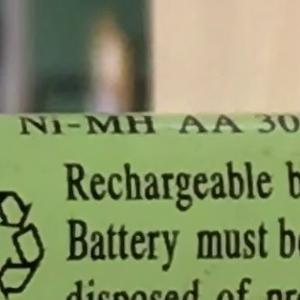keyword: (10, 105, 165, 145)
